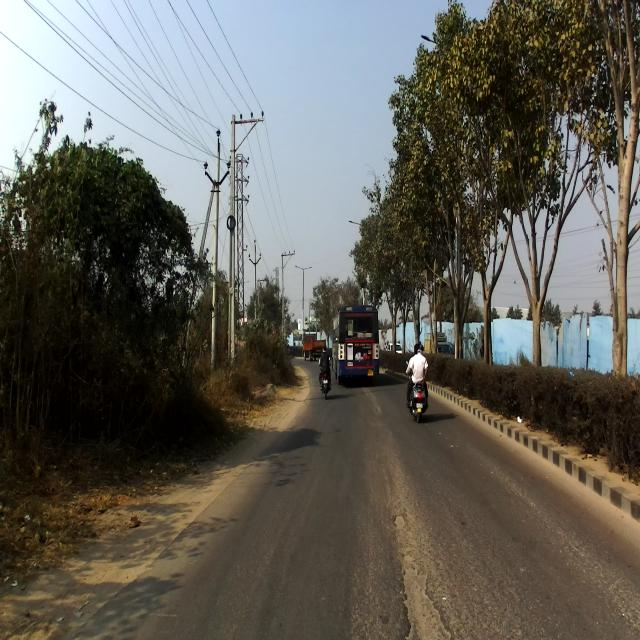bus ahead at: (337, 301, 380, 383)
electric pole ahead at: (225, 107, 266, 364)
